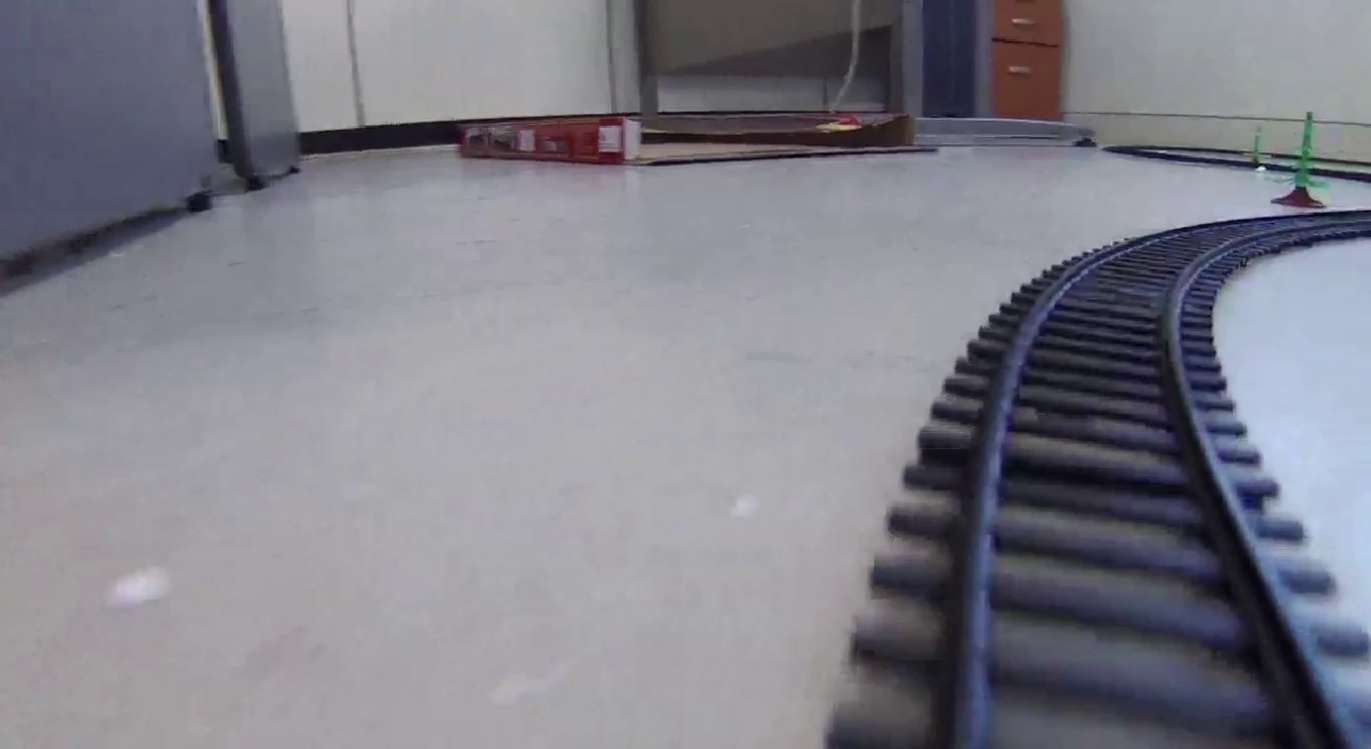tree: (1278, 113, 1324, 211)
